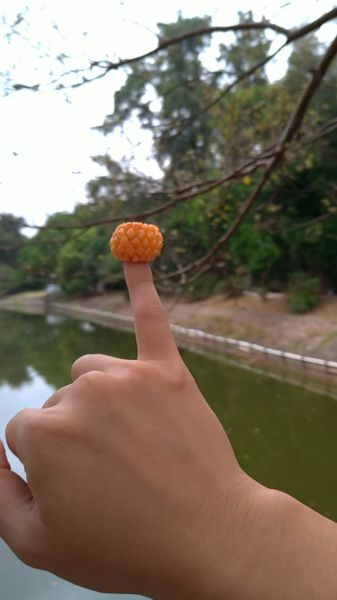eggs: (108, 222, 163, 263)
